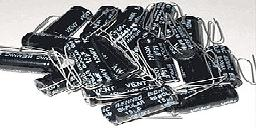Electrolytic Capacitor: (100, 86, 185, 124), (40, 3, 91, 41), (1, 46, 58, 76)
